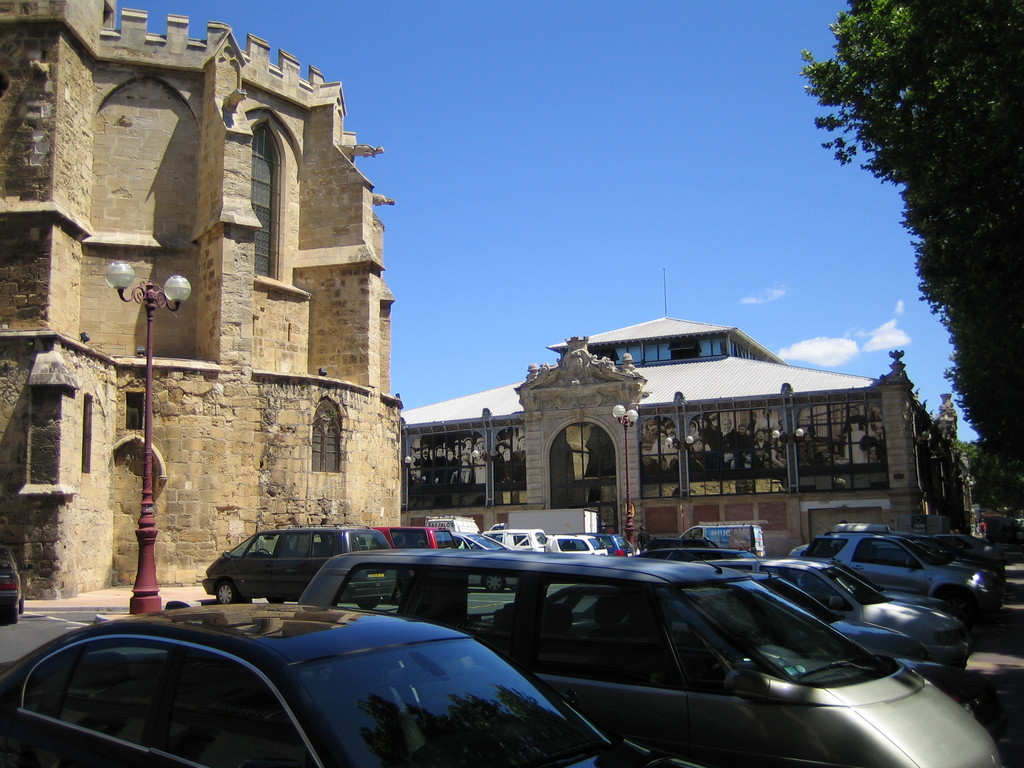Car: (0, 614, 699, 767), (691, 556, 976, 680), (800, 526, 988, 613), (202, 521, 391, 606), (0, 540, 37, 622), (375, 522, 467, 553)
